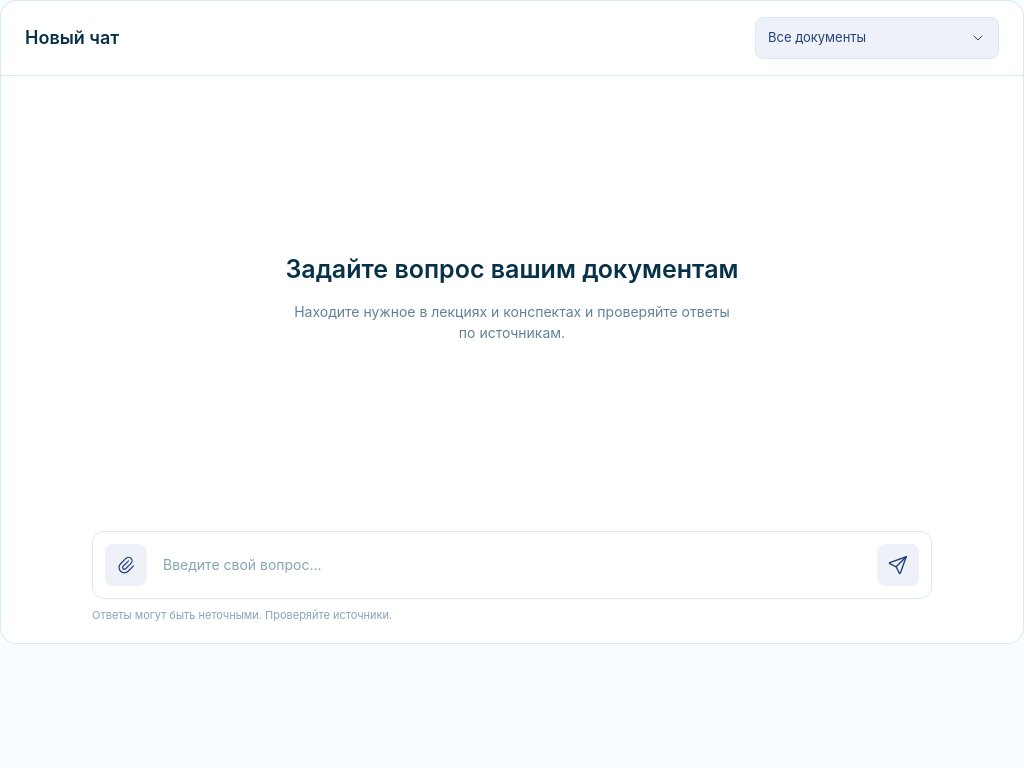
Test case: Причина технической ошибки в чате › показывает Сервер вернул некорректный ответ. Попробуйте ещё раз. вместо общей ошибки
Type "Вопрос" into the text box named "Ваш вопрос" at (512, 564), box [159,548,865,580]
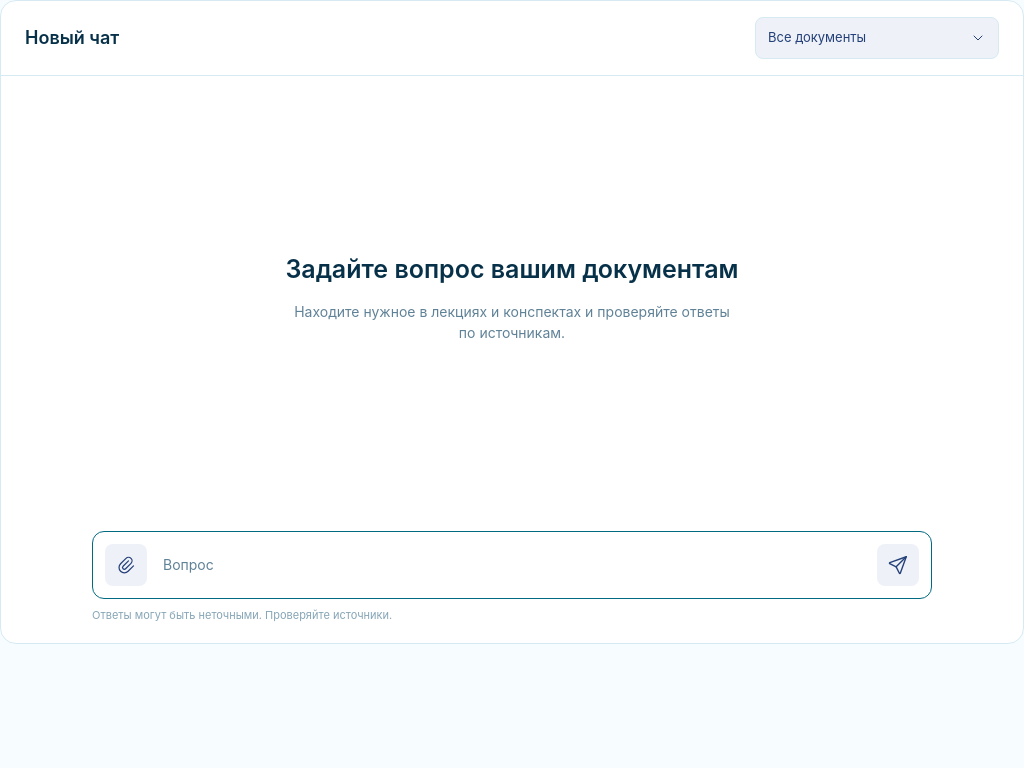
Click the button named "Отправить" at (898, 564), box [877,544,919,586]
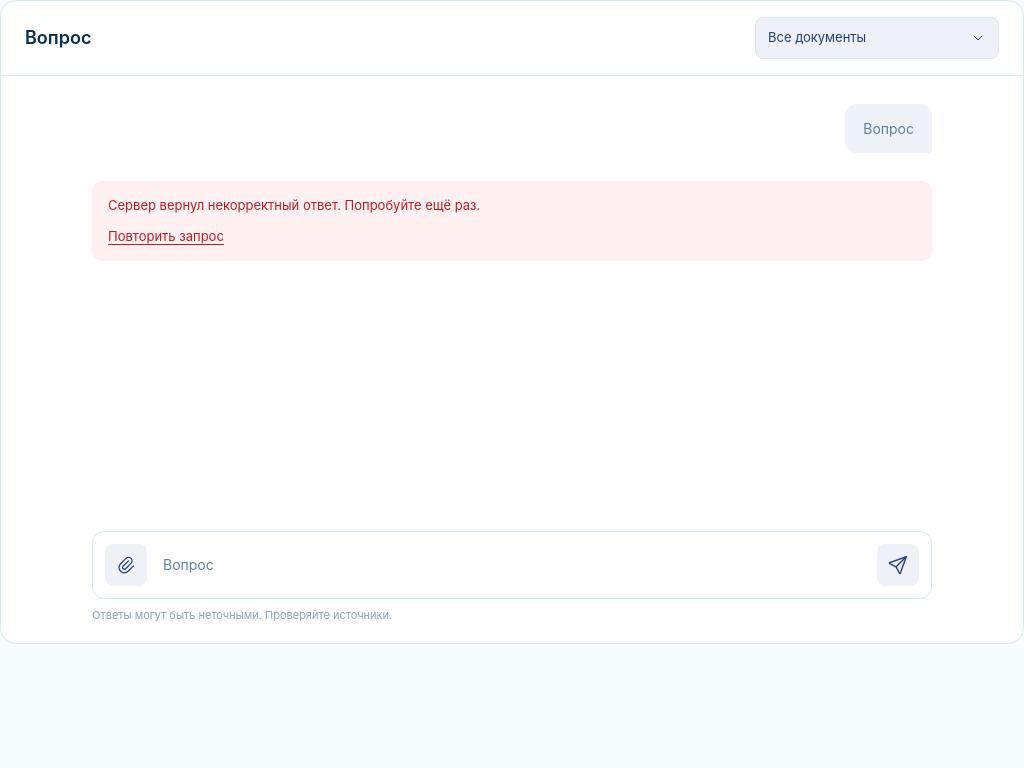
Check: the message shows "Сервер вернул некорректный ответ. Попробуйте ещё раз.", box [108,197,480,213]
Check: the button "Повторить запрос" is enabled, box [108,226,224,247]
